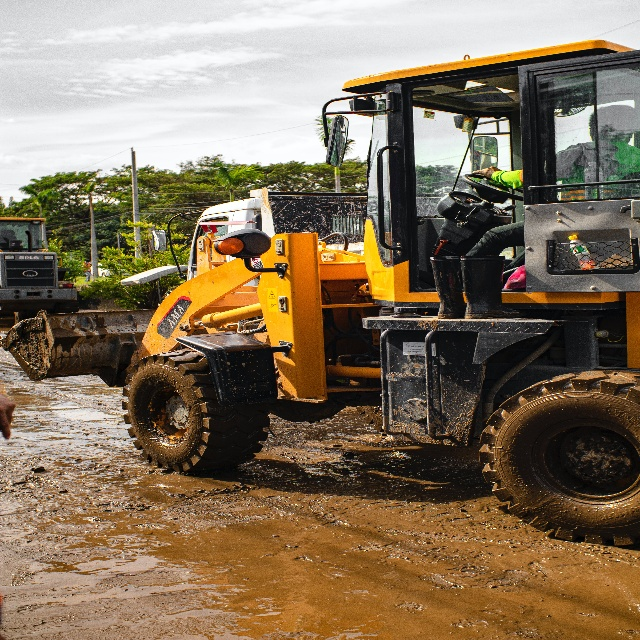Sin_guantes: (471, 166, 495, 179), (490, 164, 501, 171)
